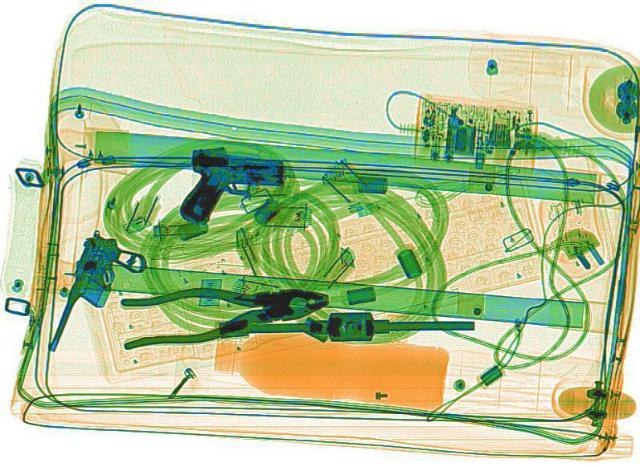Gun: (44, 230, 152, 359), (175, 142, 288, 228)
Pliers: (110, 274, 334, 348)
